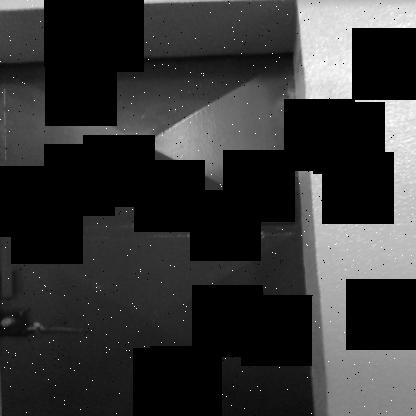Porte: (1, 51, 315, 415)
